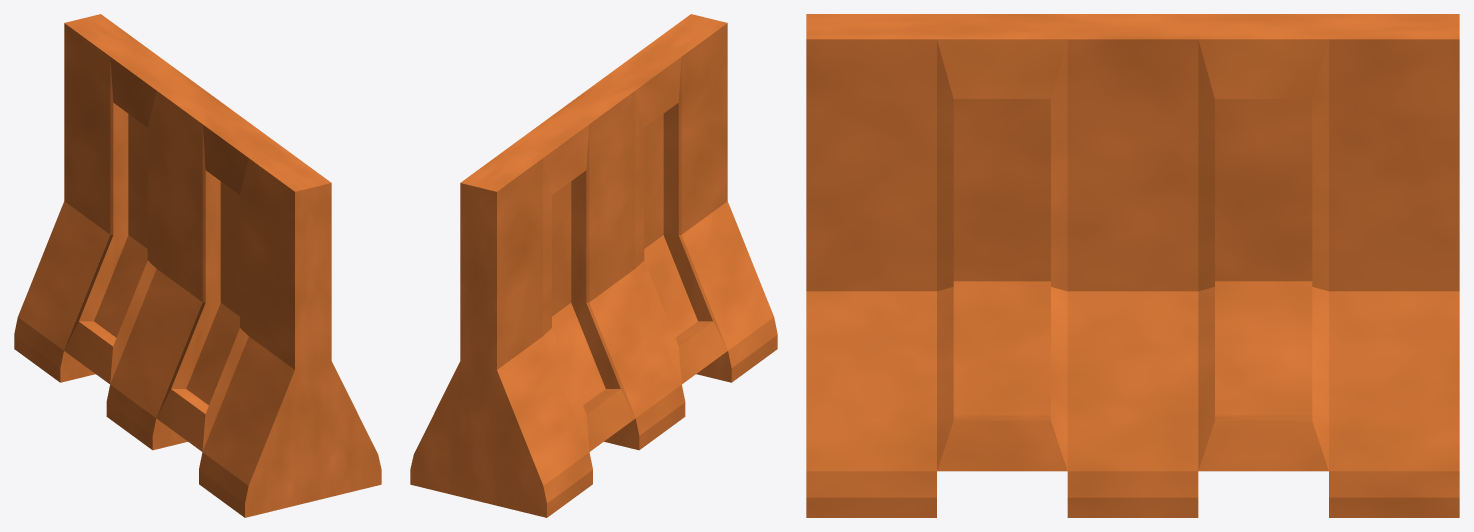
Rendered from Deff.fbx.
3 views of the same model, side by side, from view 1: azimuth 30°, elevation 25°; view 2: azimuth 150°, elevation 25°; view 3: azimuth 270°, elevation 25° (orthographic). The views are drawn at different scales.
Visible parts, largest first — view 1: Cube; view 2: Cube; view 3: Cube.
Part boxes in pixels (bbox=[...]): Cube: bbox=[14, 14, 381, 517]; Cube: bbox=[410, 14, 777, 517]; Cube: bbox=[806, 14, 1459, 517].
Size of the model in its own units: 200 by 439 by 585.
